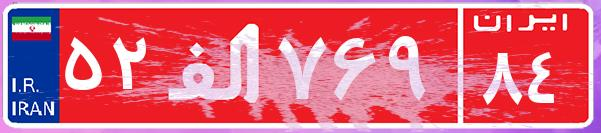2: (110, 28, 158, 105)
4: (525, 38, 570, 115)
5: (57, 26, 110, 107)
6: (330, 28, 385, 110)
7: (273, 28, 330, 110)
8: (475, 38, 525, 113)
9: (385, 28, 445, 110)
الف: (158, 15, 273, 115)
